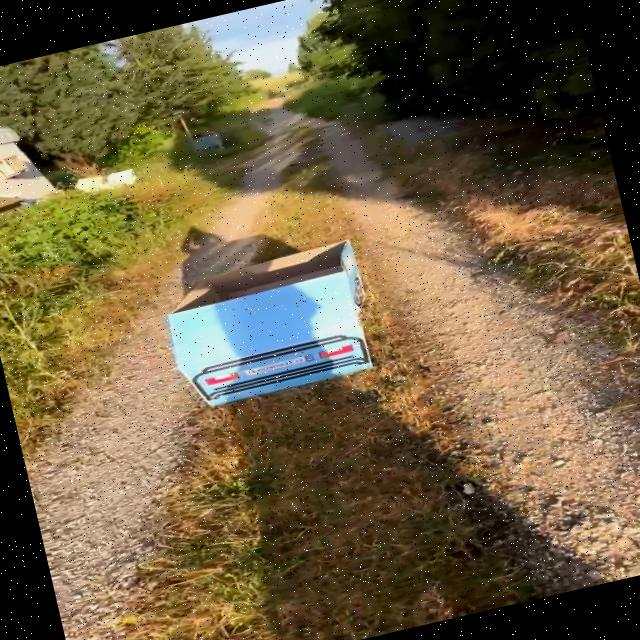blue_car: (125, 206, 425, 456)
